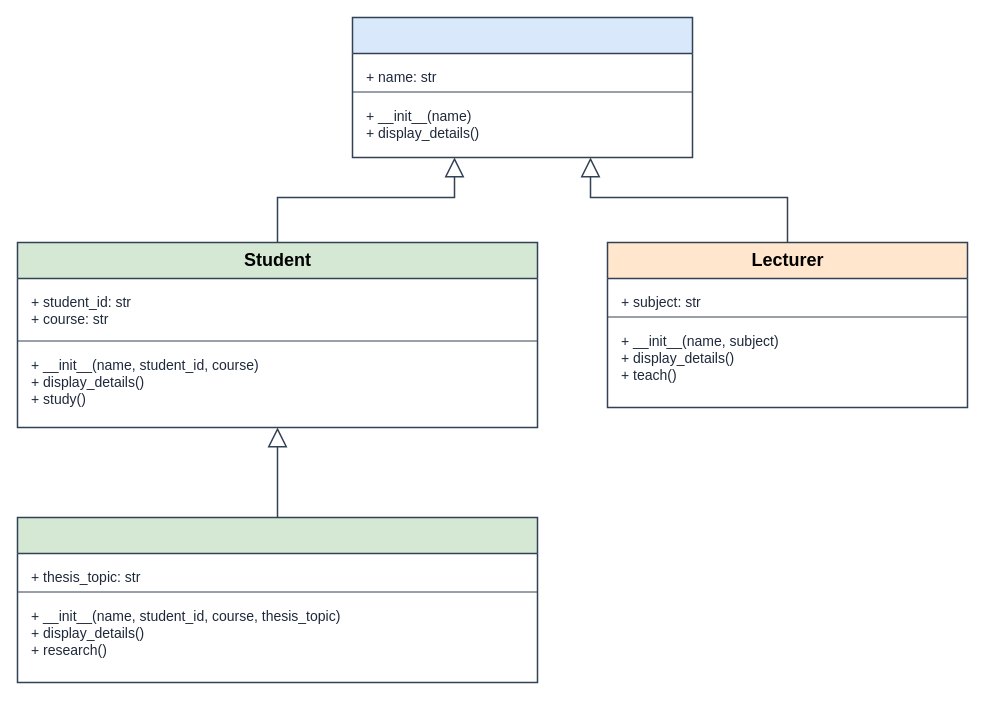
Some shapes in this 986 by 701 pixel diagram are drawn without their labels. Here are the shapes that lost their labels. From the top down, the box of each, then its label:
(351, 16, 693, 158): Person
(16, 516, 538, 683): PostgraduateStudent
